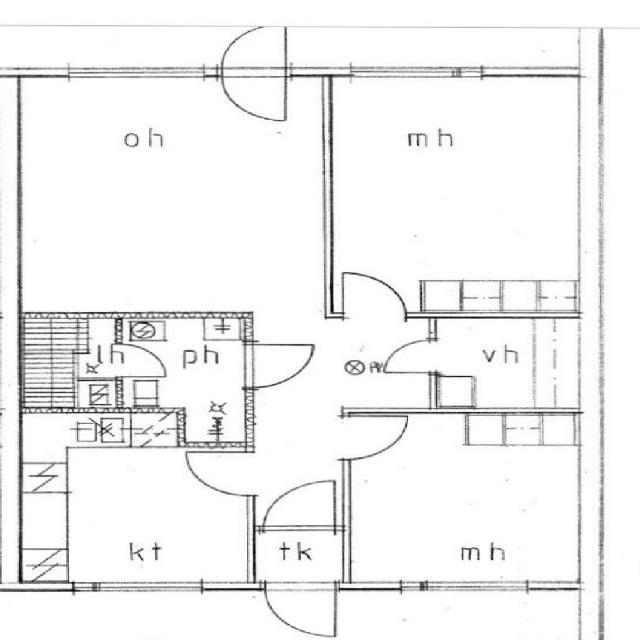door: (264, 582, 335, 639), (262, 476, 334, 531), (221, 68, 285, 121), (221, 23, 285, 76), (246, 343, 318, 388), (342, 416, 413, 459), (342, 269, 404, 318), (184, 452, 254, 495), (380, 340, 436, 372), (114, 344, 168, 376)
